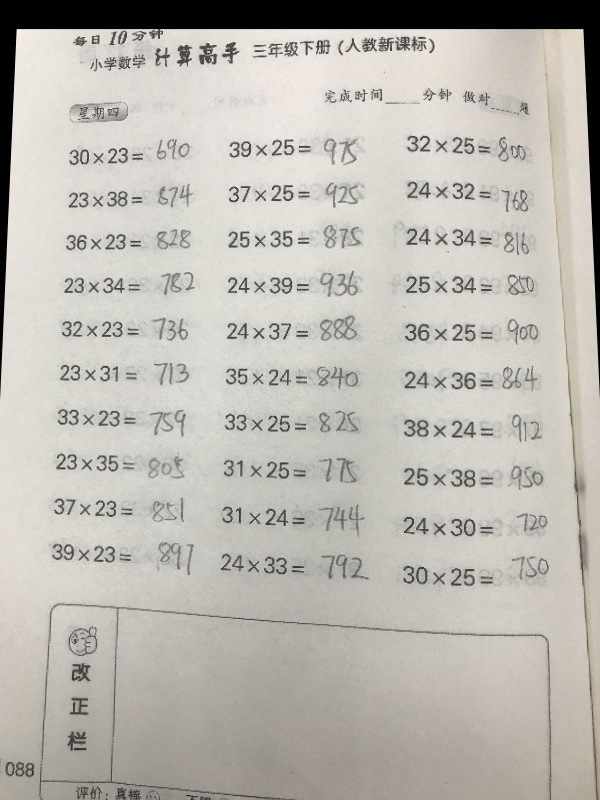equation: (398, 550, 553, 594), (217, 545, 370, 587), (47, 535, 195, 577), (220, 497, 368, 539), (217, 450, 363, 491), (396, 504, 554, 540), (400, 410, 544, 447), (400, 361, 543, 396), (221, 406, 367, 439), (52, 448, 188, 483), (401, 223, 533, 259), (54, 404, 189, 439), (50, 494, 188, 528), (222, 359, 366, 391), (400, 462, 548, 493), (225, 135, 361, 168), (222, 314, 360, 346), (55, 359, 192, 391), (223, 269, 363, 300), (403, 178, 532, 211), (403, 270, 537, 301), (402, 132, 529, 164), (64, 179, 195, 210), (398, 317, 542, 345), (224, 178, 362, 207), (61, 267, 195, 296), (58, 314, 194, 342), (65, 138, 194, 166), (61, 227, 193, 254), (224, 226, 313, 251)
